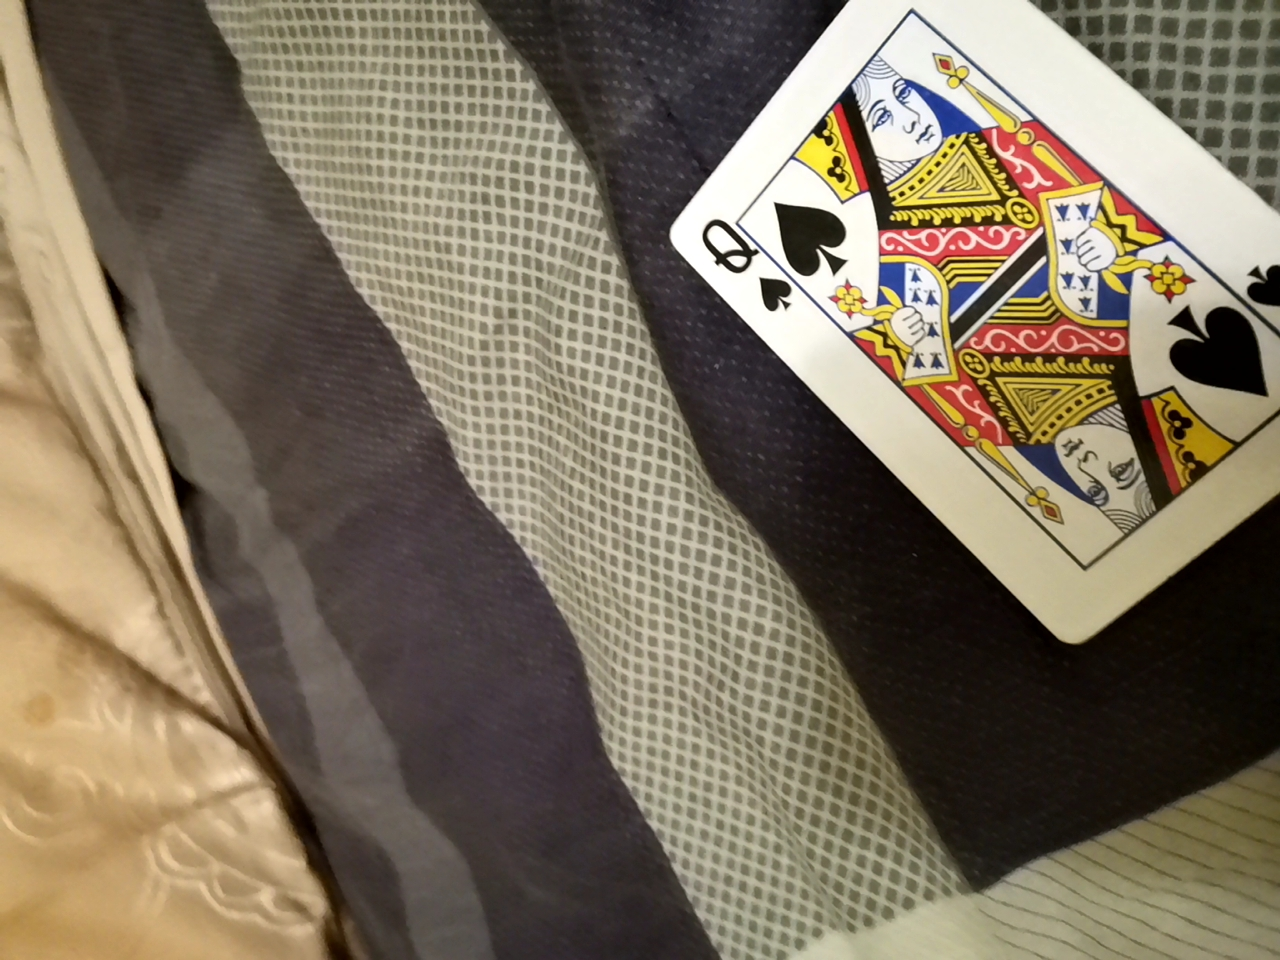ht q: (636, 5, 1272, 674)
